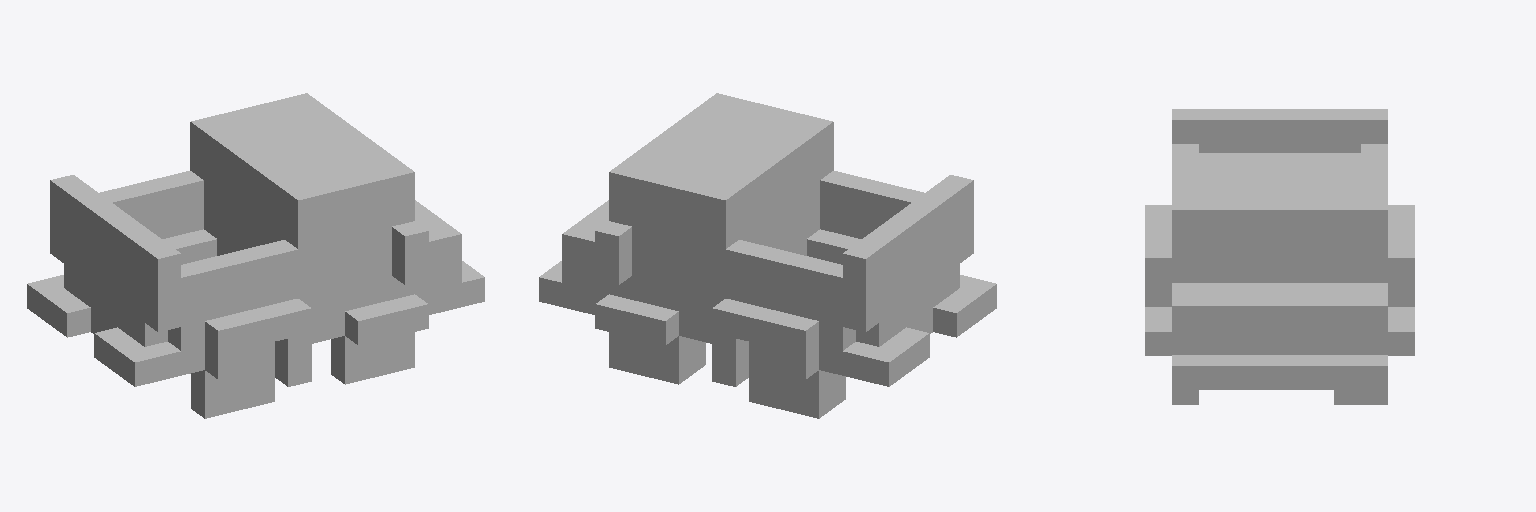
The model's file is truck.obj.
3 renders of one model, left to right at view 1: azimuth 30°, elevation 25°; view 2: azimuth 150°, elevation 25°; view 3: azimuth 270°, elevation 25°, orthographic.
Visible parts, largest first — view 1: truck; view 2: truck; view 3: truck.
Boxes of the visible parts, x1,y1,x2,y2 form: truck: [27, 93, 484, 418]; truck: [539, 93, 996, 418]; truck: [1145, 109, 1414, 404].
Size of the model in its own units: 15 by 8 by 10.